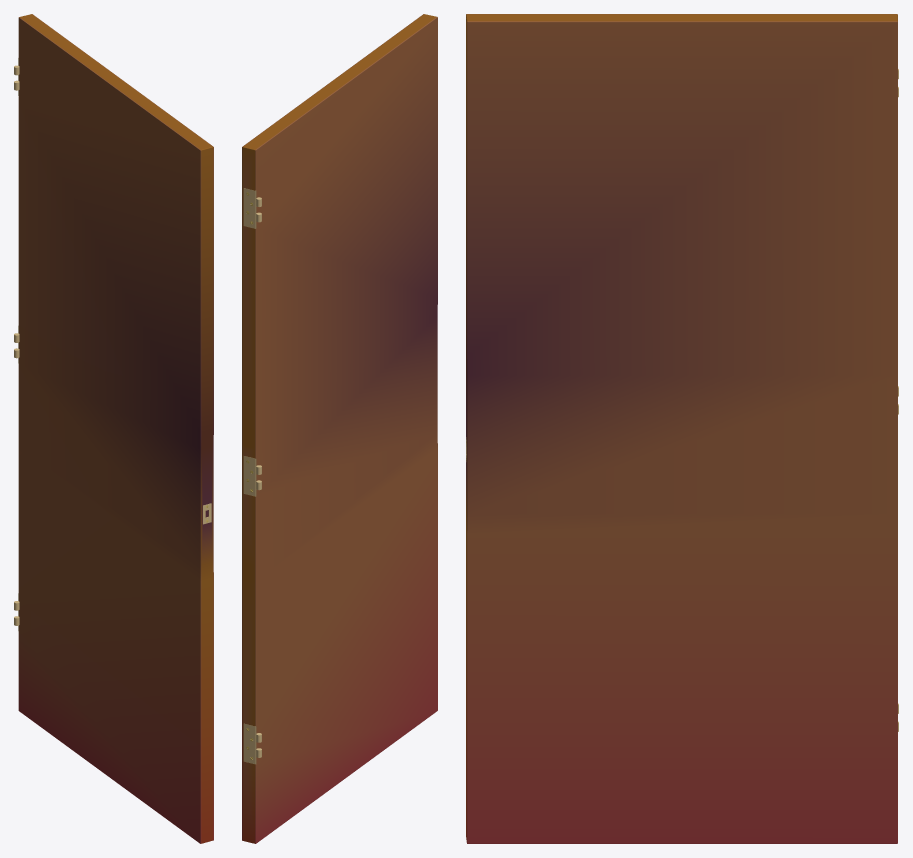
File: Kit_DoorLeaf_Veneer.fbx
3 renders of one model, left to right at view 1: azimuth 30°, elevation 25°; view 2: azimuth 150°, elevation 25°; view 3: azimuth 270°, elevation 25°, orthographic. The views are drawn at different scales.
Parts seen in each view (by area): view 1: Kit_DoorLeaf_Veneer_LOD0; view 2: Kit_DoorLeaf_Veneer_LOD0; view 3: Kit_DoorLeaf_Veneer_LOD0.
Boxes of the visible parts, <box> form: Kit_DoorLeaf_Veneer_LOD0: <box>14,14,213,843</box>; Kit_DoorLeaf_Veneer_LOD0: <box>242,14,437,843</box>; Kit_DoorLeaf_Veneer_LOD0: <box>466,14,898,843</box>.
Size of what is drawn, in the model's own units: 0.0589 by 2.08 by 0.9925.
